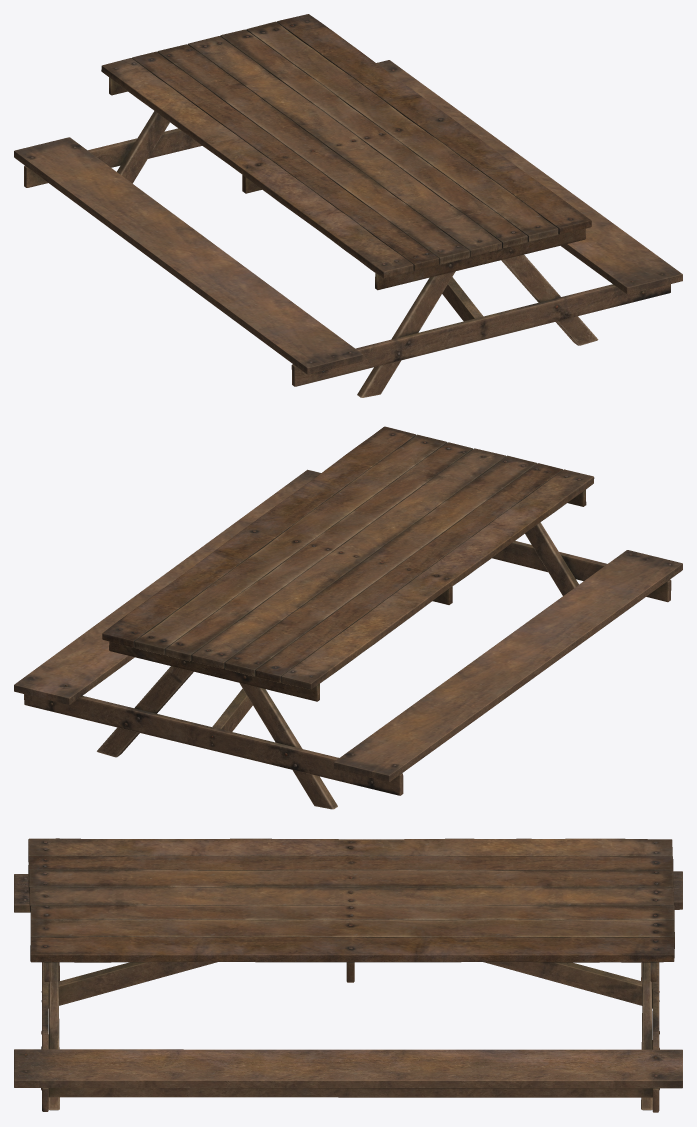
Rendered from wooden_picnic_table_1k.gltf.obj.
The picture shows the model from 3 angles, top to bottom: view 1: azimuth 30°, elevation 25°; view 2: azimuth 150°, elevation 25°; view 3: azimuth 270°, elevation 25°; orthographic projection. The views are drawn at different scales.
Parts seen in each view (by area): view 1: obj2, obj1; view 2: obj2, obj1; view 3: obj2, obj1.
Boxes of the visible parts, left/top/right/bottom form: obj2: left=101, top=14, right=591, bottom=278; obj1: left=14, top=60, right=682, bottom=397; obj2: left=102, top=426, right=594, bottom=689; obj1: left=14, top=469, right=682, bottom=809; obj2: left=28, top=838, right=674, bottom=962; obj1: left=14, top=871, right=682, bottom=1112.
Size of the model in its own units: 2.24 by 0.746 by 3.02.
